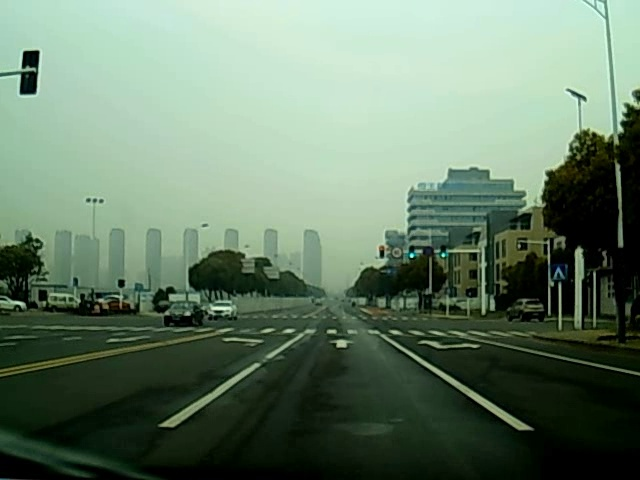Traffic_Light_go: (439, 245, 446, 260), (408, 247, 414, 261)
Traffic_Light_stop: (378, 245, 385, 259)
